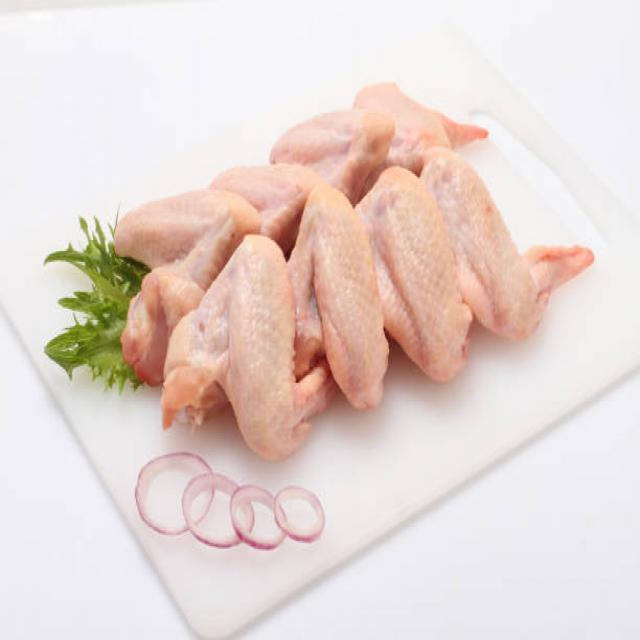Chicken: (424, 156, 596, 376), (162, 234, 327, 448)
